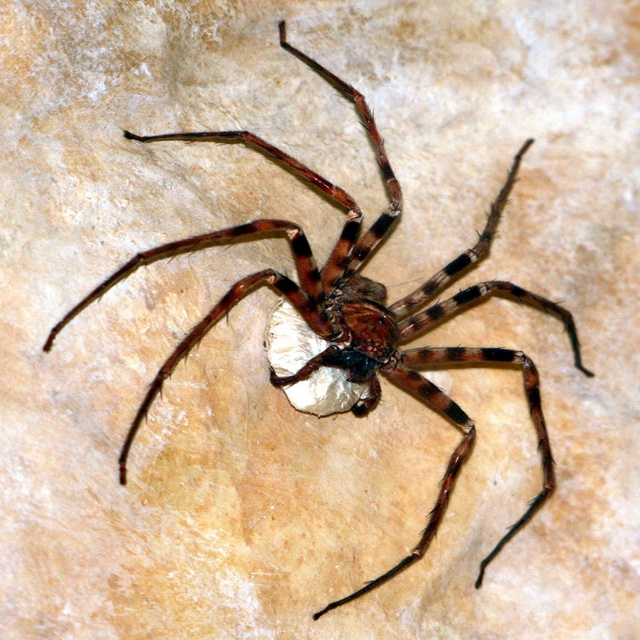Spider: (42, 20, 596, 621)
